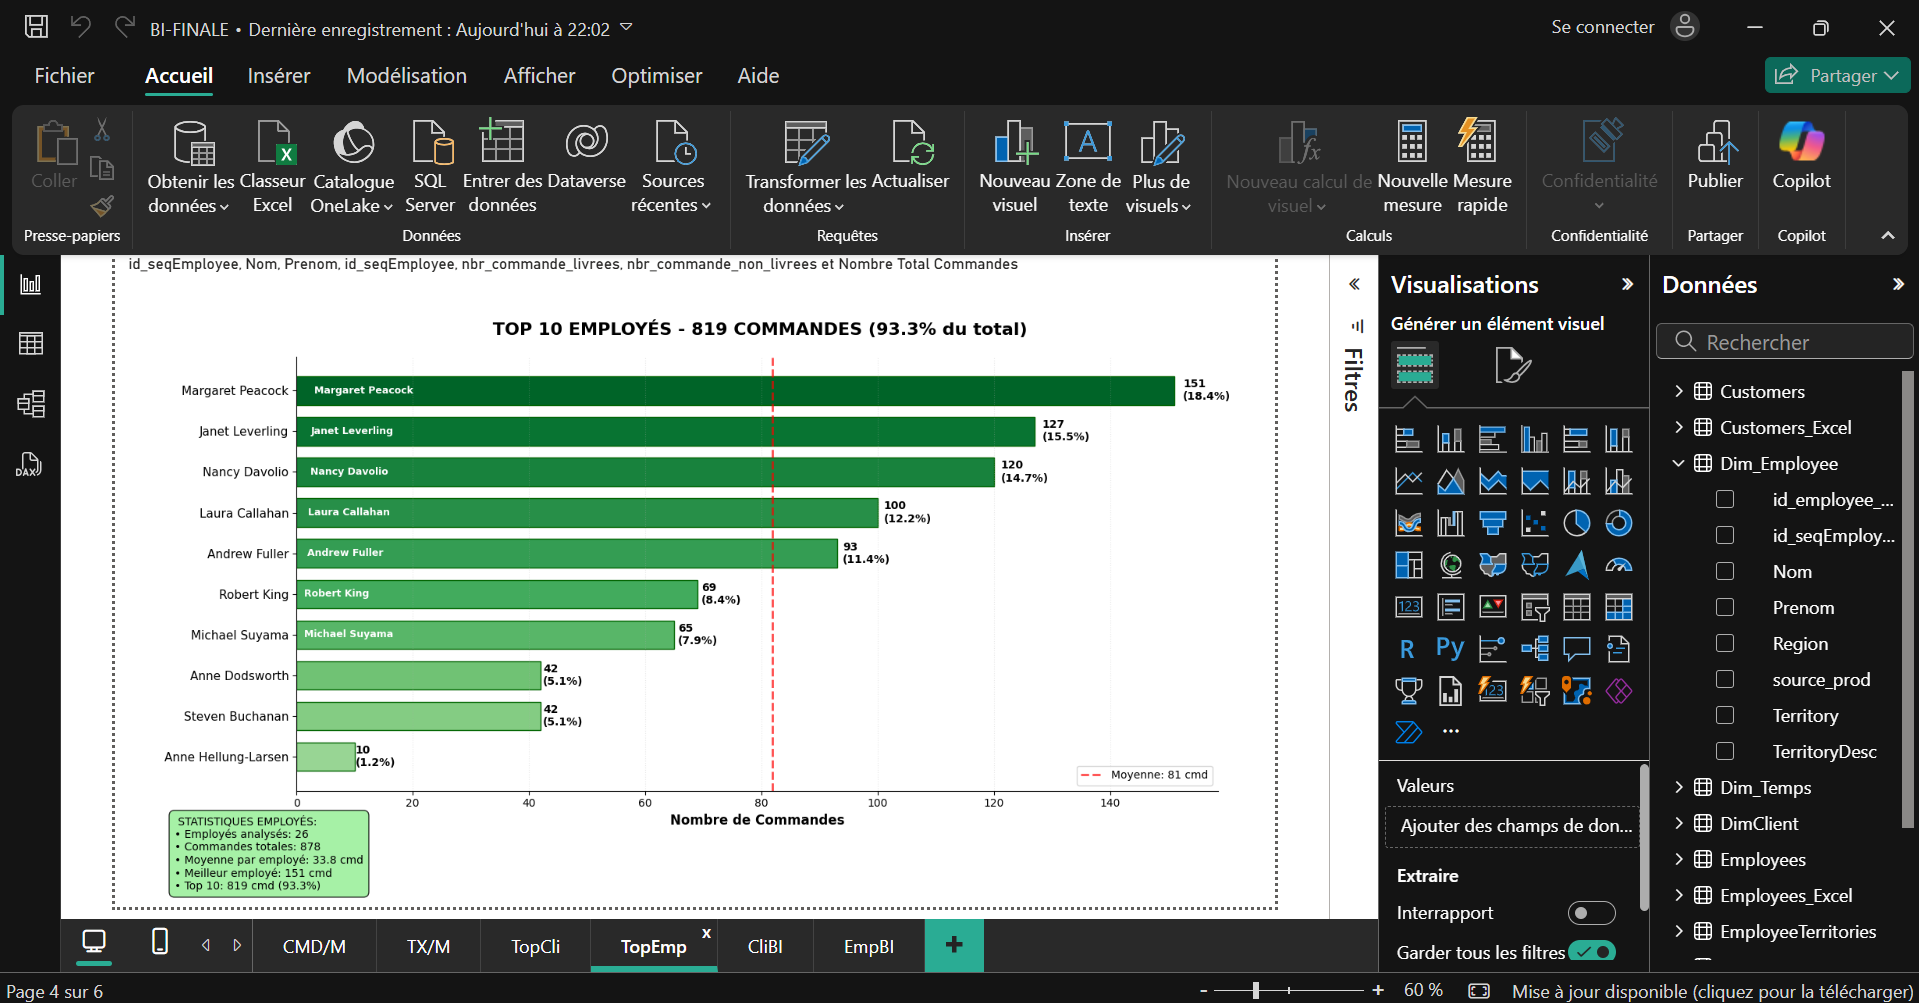

What the dashboard file says about the page in this screenshot:
{"tool":"powerbi","page":{"name":"TopEmp","canvas":[1280,720],"ordinal":3},"visuals":[{"type":"pythonVisual","fields":{"Values":["Dim_Employee.id_seqEmployee","Dim_Employee.Nom","Dim_Employee.Prenom","TF_Commande.id_seqEmployee","TF_Commande.nbr_commande_livrees","TF_Commande.nbr_commande_non_livrees","TF_Commande.Nombre Total Commandes"]},"box":[9.4,0,1270,719.2],"z":0}]}

Visuals, with their boxes on the page's 1280x720 design canvas (x1, y1, x2, y2). These are canvas units, not pixel positions in the 1919x1003 screenshot, which may show the page scaled, cropped or inside an application window:
pythonVisual - Dim_Employee.id_seqEmployee x Dim_Employee.Nom: l=9, t=0, r=1279, b=719
